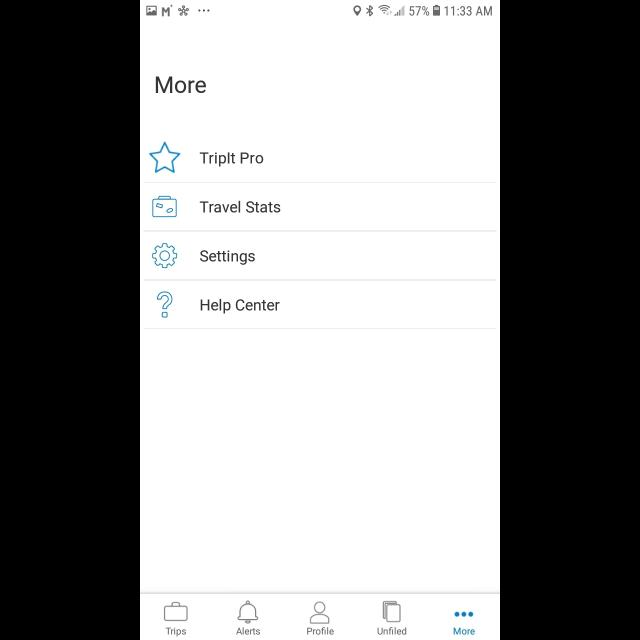icon: (149, 142, 181, 174), (152, 243, 178, 269), (152, 195, 178, 217), (164, 601, 188, 621), (238, 600, 258, 624), (310, 600, 330, 624), (157, 290, 173, 318), (382, 601, 402, 623), (454, 611, 474, 617)
text: (200, 298, 280, 314), (200, 152, 264, 168), (200, 201, 280, 213), (156, 76, 208, 94), (200, 250, 256, 266), (378, 627, 407, 635), (308, 627, 334, 635), (236, 627, 260, 635), (166, 628, 187, 636), (454, 627, 474, 635)
uppertaskbar: (140, 1, 500, 18)
